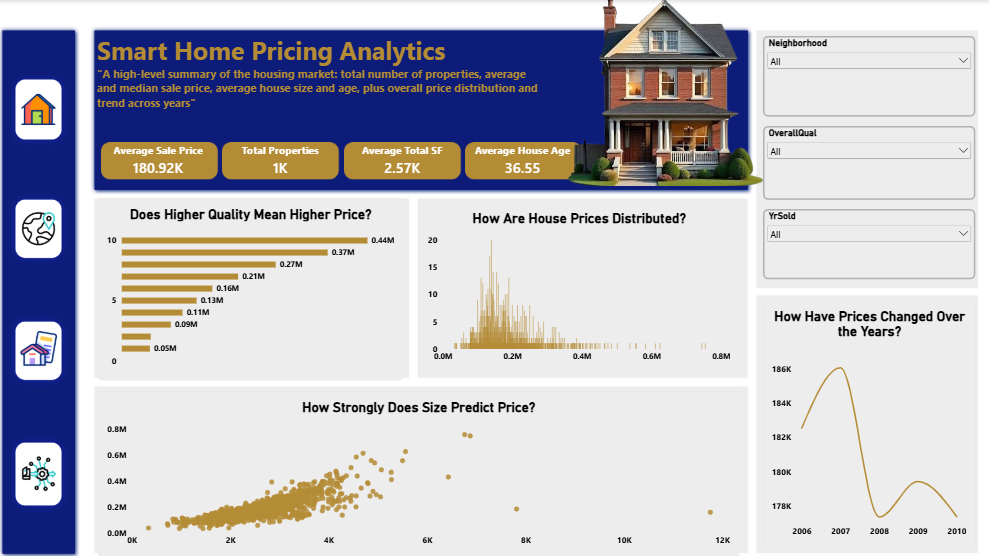

The page's visual inventory and layout, read from the dashboard file:
{"tool":"powerbi","page":{"name":"Page 1","canvas":[1920,1080],"ordinal":1},"visuals":[{"type":"shape","box":[178,50,1282,326],"z":0},{"type":"slicer","fields":{"Values":["Dim_Location.Neighborhood"]},"box":[1480.3,70.2,410.8,156.1],"z":0,"group":"g3"},{"type":"image","box":[33.2,152.8,90.7,117.7],"z":0,"group":"g1"},{"type":"slicer","fields":{"Values":["Dim_Quality.OverallQual"]},"box":[1480.3,244.5,410.8,142.6],"z":1000,"group":"g3"},{"type":"shape","box":[178,376,626,364],"z":1000},{"type":"image","box":[33.1,855.1,90.7,124.2],"z":1000,"group":"g1"},{"type":"shape","box":[804,376,656,364],"z":2000},{"type":"image","box":[33,384.4,90.7,114.8],"z":2000,"group":"g1"},{"type":"slicer","fields":{"Values":["Fact_Properties.YrSold"]},"box":[1480.3,405.1,410.8,135.8],"z":2000,"group":"g3"},{"type":"image","box":[33.1,621.8,90.7,114.8],"z":2000,"group":"g2"},{"type":"shape","box":[178,740,1282,340],"z":3000},{"type":"shape","box":[1459.6,49.5,445.9,516.1],"z":4000},{"type":"image","box":[175.5,247.7,272.5,128],"z":5000},{"type":"textbox","box":[192,64,865,198.2],"z":6000},{"type":"shape","box":[0,50.3,158,1030],"z":7000},{"type":"cardVisual","fields":{"Data":["Fact_Properties.Average Sale Price"]},"box":[192,262.2,237.4,97],"z":8000},{"type":"image","box":[410.8,247.7,272.5,128],"z":9000},{"type":"image","box":[881.5,247.7,272.5,128],"z":10000},{"type":"image","box":[646.2,247.7,272.5,128],"z":11000},{"type":"image","box":[1034.3,0,508,360],"z":12000},{"type":"group","id":"g1","title":"Group 1","box":[33,152.8,90.9,826.6],"z":12000,"group":"g2"},{"type":"cardVisual","fields":{"Data":["Fact_Properties.Total Properties"]},"box":[427.4,262.2,237.4,97],"z":13000},{"type":"cardVisual","fields":{"Data":["Fact_Properties.Average Total SF"]},"box":[664.8,262.2,237.4,97],"z":14000},{"type":"cardVisual","fields":{"Data":["Fact_Properties.Average House Age"]},"box":[900.1,262.2,231.2,97],"z":15000},{"type":"group","id":"g2","title":"Group 2","box":[33,152.8,90.8,825.8],"z":16000},{"type":"barChart","title":"Does Higher Quality Mean Higher Price?","fields":{"Category":["Dim_Quality.OverallQual"],"Y":["Fact_Properties.Average Sale Price"]},"box":[194.1,384,590.5,353],"z":17000},{"type":"scatterChart","title":"How Strongly Does Size Predict Price?","fields":{"X":["Sum(Fact_Properties.TotalSF)"],"Y":["Sum(Fact_Properties.SalePrice)"],"Category":["Fact_Properties.Id"]},"box":[194.1,757.7,1240.8,322.1],"z":18000},{"type":"clusteredColumnChart","title":"How Are House Prices Distributed?","fields":{"Category":["Fact_Properties.SalePrice"],"Y":["CountNonNull(Fact_Properties.Id)"]},"box":[815.5,390.2,619.4,330.3],"z":19000},{"type":"shape","box":[1459.6,563.6,445.9,516.1],"z":20000},{"type":"lineChart","title":"How Have Prices Changed Over the Years?","fields":{"Category":["Fact_Properties.YrSold"],"Y":["Fact_Properties.Average Sale Price"]},"box":[1480.3,580.1,410.8,479],"z":21000},{"type":"group","id":"g3","title":"Group 3","box":[1480.3,70.2,410.8,470.7],"z":22000}]}

Visuals, with their boxes in screenshot pixels (x1, y1, x2, y2), scaled from the page's 1920x1080 canvas onto the 989x556 screenshot:
shape: [92, 26, 752, 194]
slicer - Dim_Location.Neighborhood: [763, 36, 974, 117]
image: [17, 79, 64, 139]
slicer - Dim_Quality.OverallQual: [763, 126, 974, 199]
shape: [92, 194, 414, 381]
image: [17, 440, 64, 504]
shape: [414, 194, 752, 381]
image: [17, 198, 64, 257]
slicer - Fact_Properties.YrSold: [763, 209, 974, 278]
image: [17, 320, 64, 379]
shape: [92, 381, 752, 555]
shape: [752, 25, 982, 291]
image: [90, 128, 231, 193]
textbox: [99, 33, 544, 135]
shape: [0, 26, 81, 555]
cardVisual - Fact_Properties.Average Sale Price: [99, 135, 221, 185]
image: [212, 128, 352, 193]
image: [454, 128, 594, 193]
image: [333, 128, 473, 193]
image: [533, 0, 794, 185]
"Group 1" group: [17, 79, 64, 504]
cardVisual - Fact_Properties.Total Properties: [220, 135, 342, 185]
cardVisual - Fact_Properties.Average Total SF: [342, 135, 465, 185]
cardVisual - Fact_Properties.Average House Age: [464, 135, 583, 185]
"Group 2" group: [17, 79, 64, 504]
"Does Higher Quality Mean Higher Price?" barChart: [100, 198, 404, 379]
"How Strongly Does Size Predict Price?" scatterChart: [100, 390, 739, 555]
"How Are House Prices Distributed?" clusteredColumnChart: [420, 201, 739, 371]
shape: [752, 290, 982, 555]
"How Have Prices Changed Over the Years?" lineChart: [763, 299, 974, 545]
"Group 3" group: [763, 36, 974, 278]
